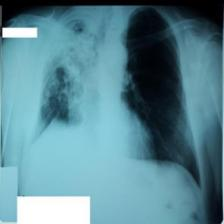tuberculosis: (17, 5, 202, 195)
